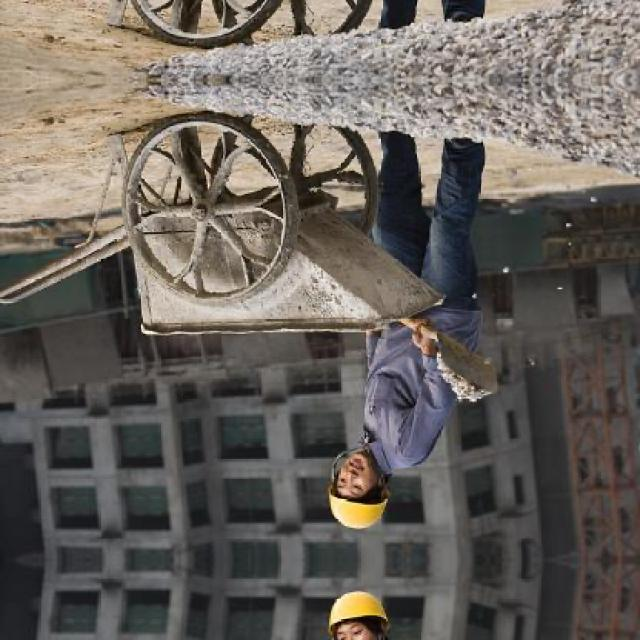con casco: (320, 448, 380, 534)
